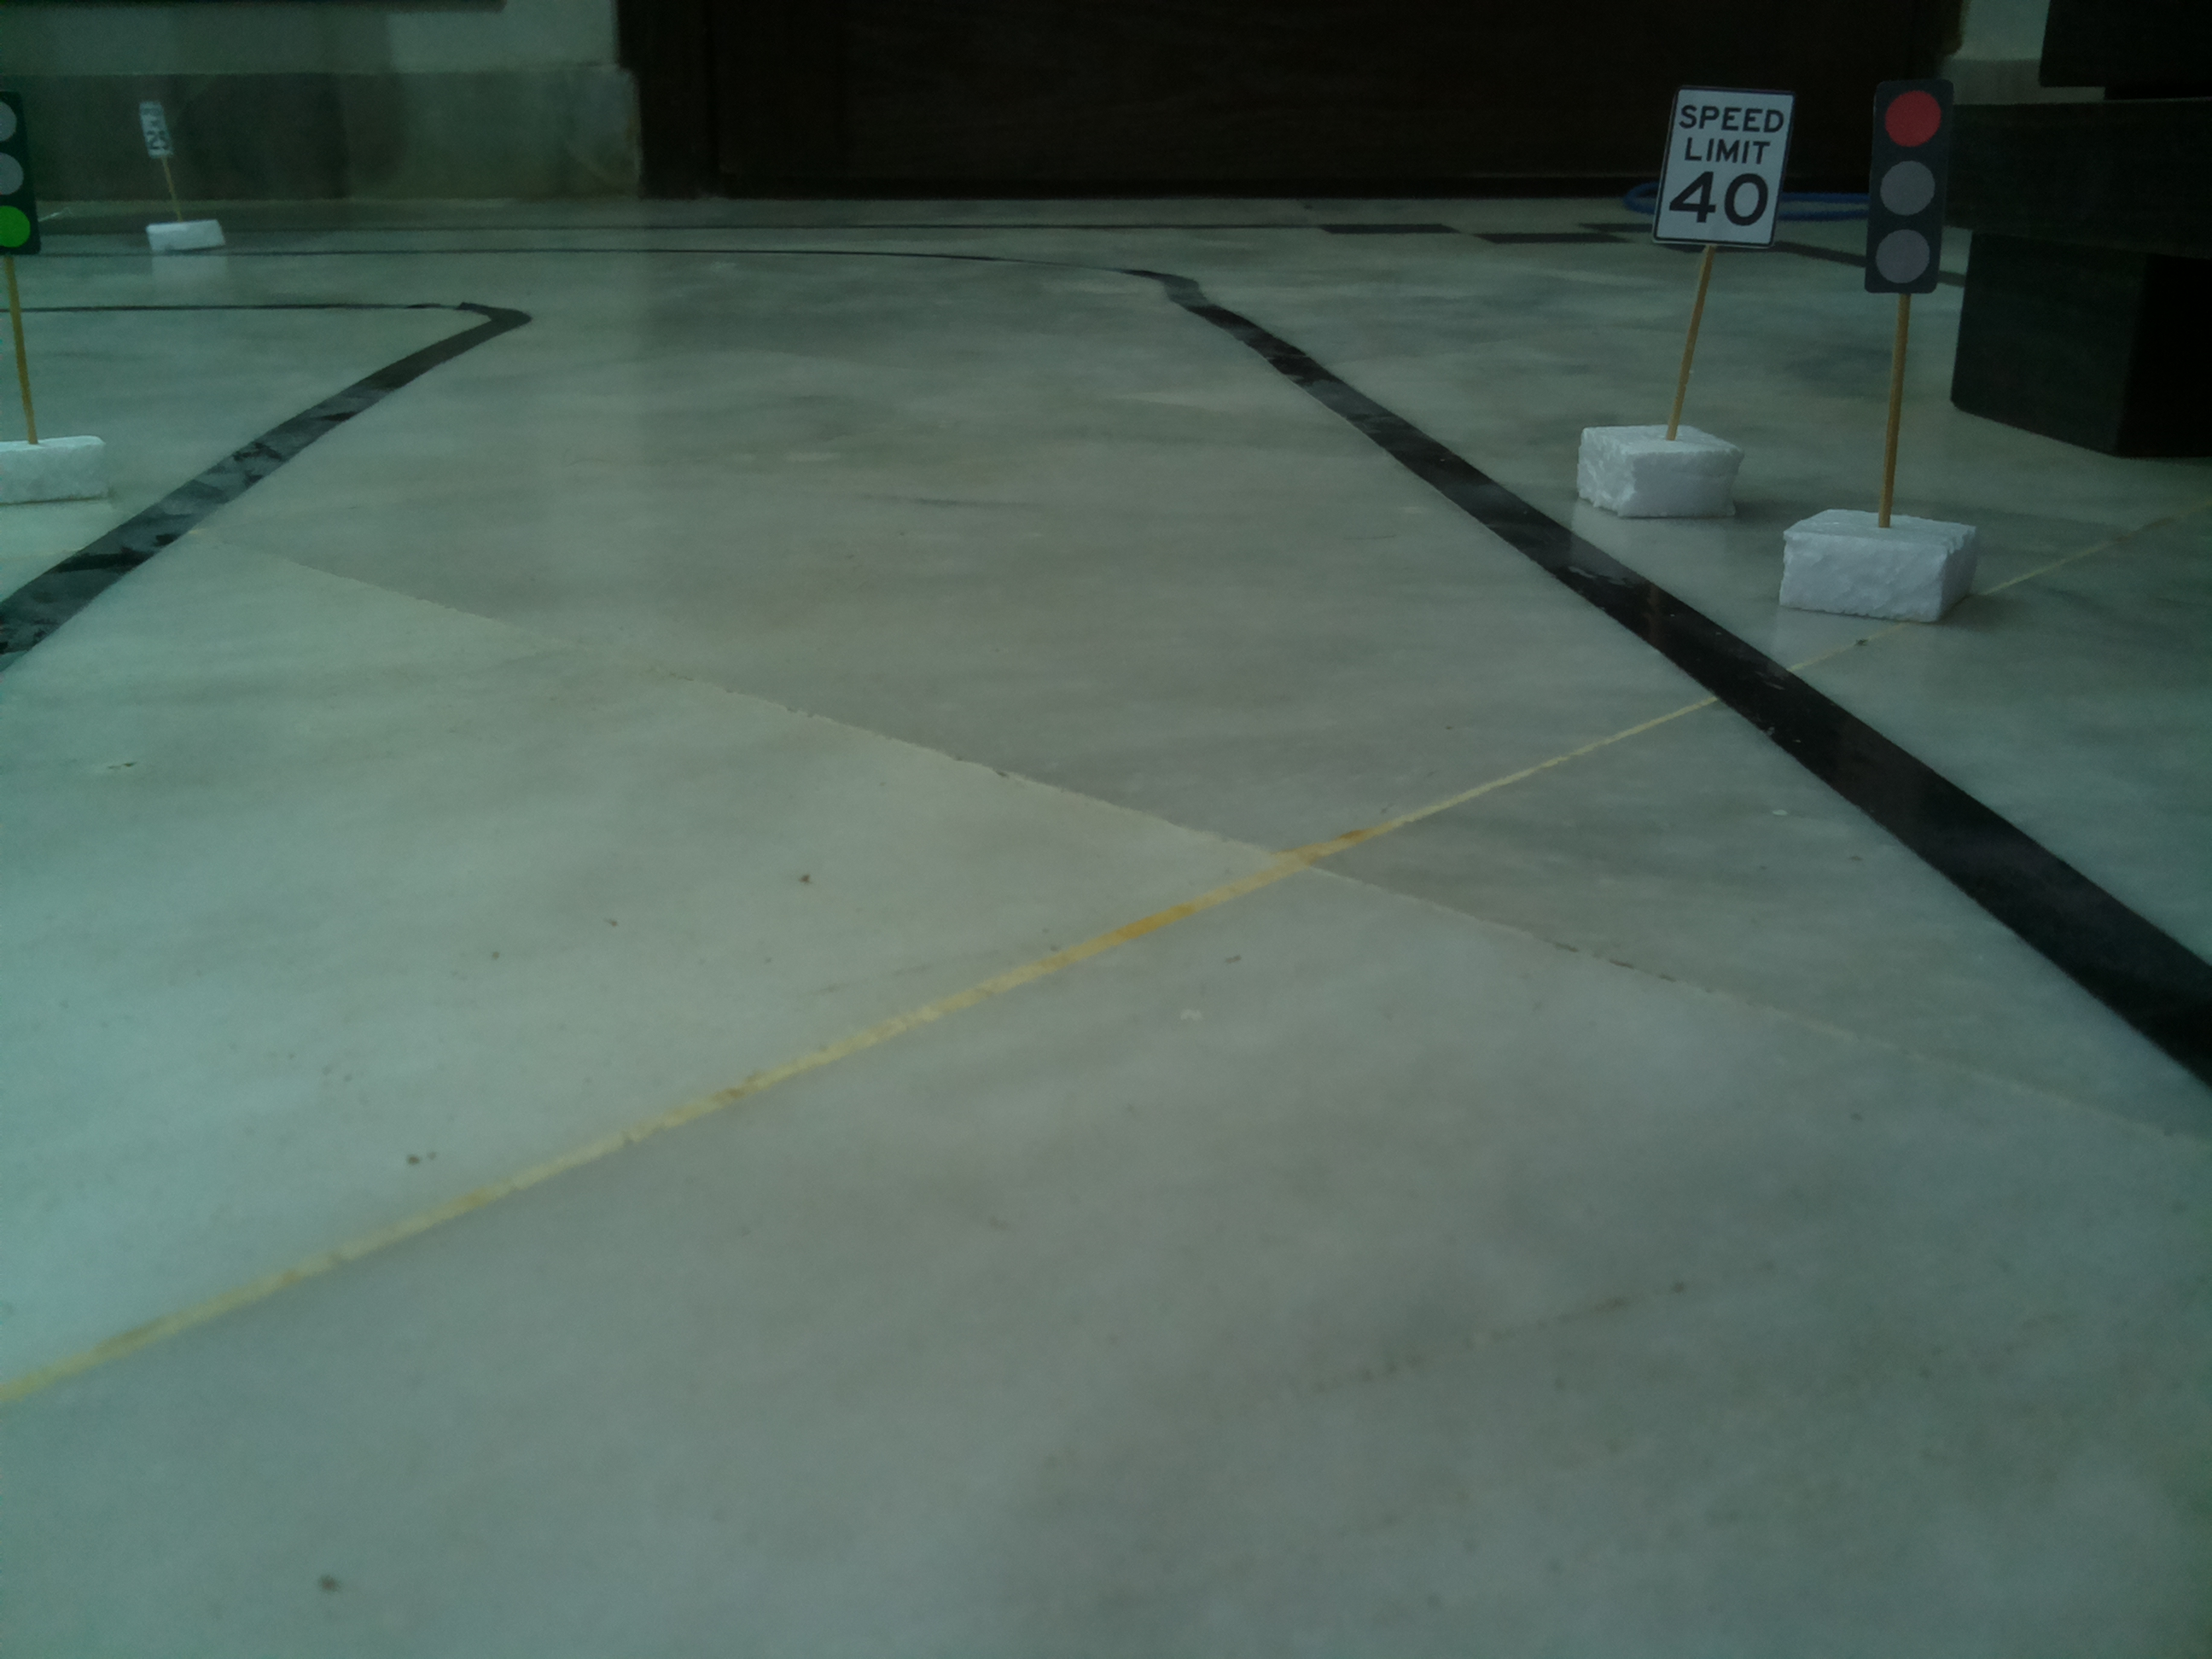Green traffic light: (0, 80, 44, 256)
Red traffic light: (1860, 63, 1959, 303)
Speed limit 40: (1649, 77, 1811, 254)
